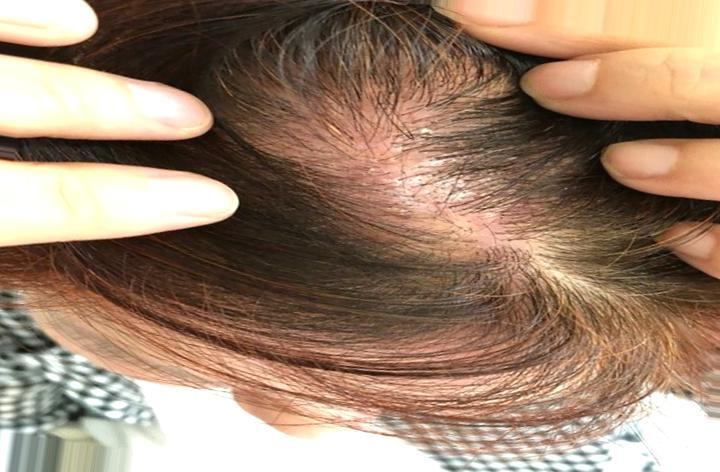Contact Dermatitis: (252, 41, 510, 288)
